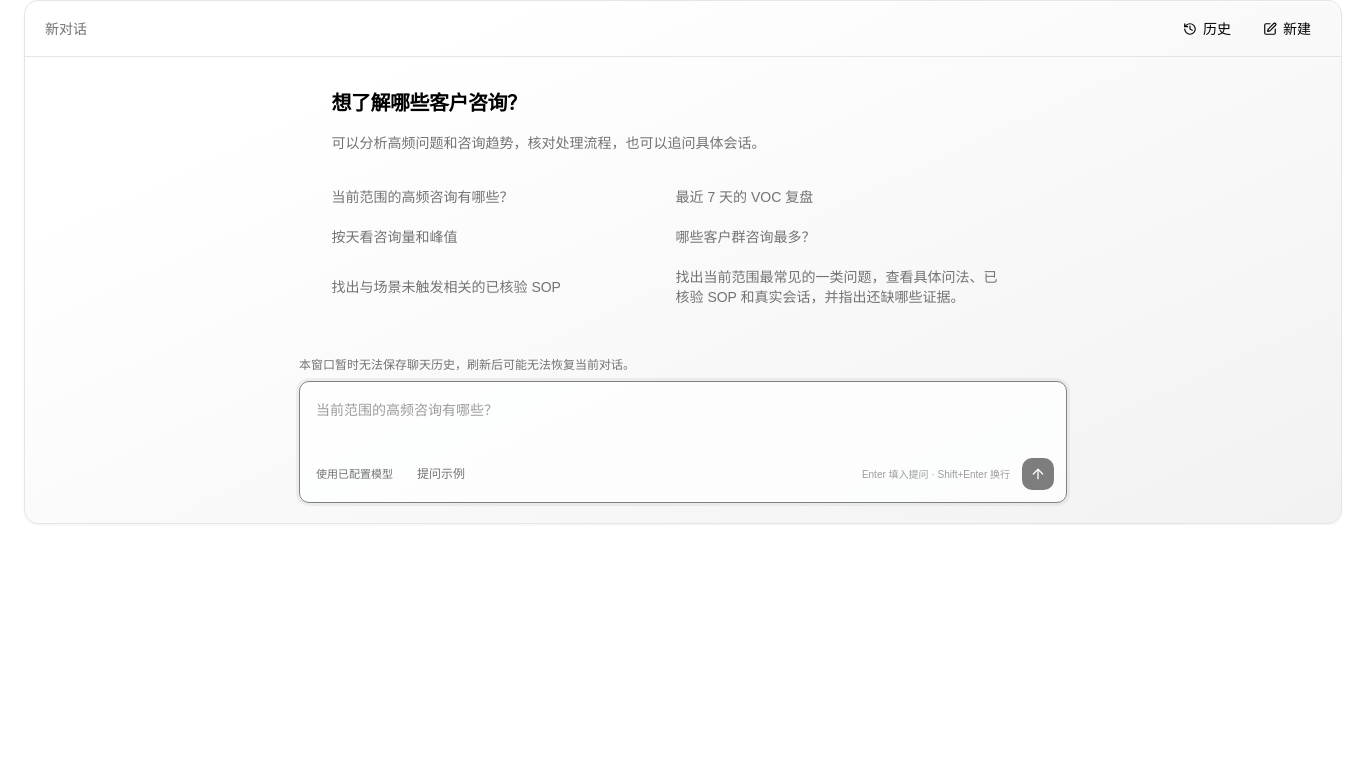
Test case: completes a typed keyword in place and only sends on a fresh Enter
Type "话术" into the text box named "向语海Voc提问".
click(683, 422); type("话术")  # box [312,394,1054,450]
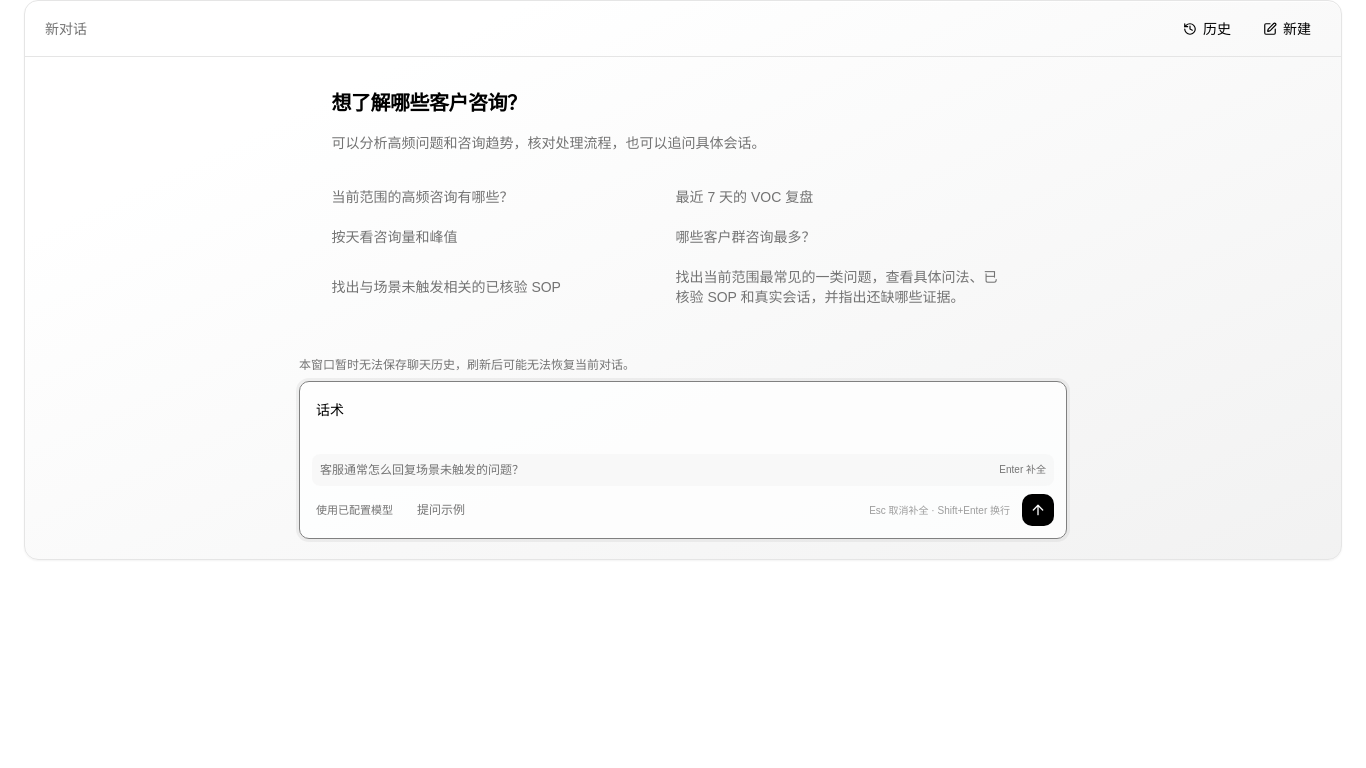
expect the button "客服通常怎么回复场景未触发的问题？ Enter 补全" is shown: met, box [312,454,1054,486]
Press Enter in the text box named "向语海Voc提问", box [312,394,1054,450]
Press Enter in the text box named "向语海Voc提问", box [312,394,1054,450]
Press Enter in the text box named "向语海Voc提问", box [312,394,1054,450]
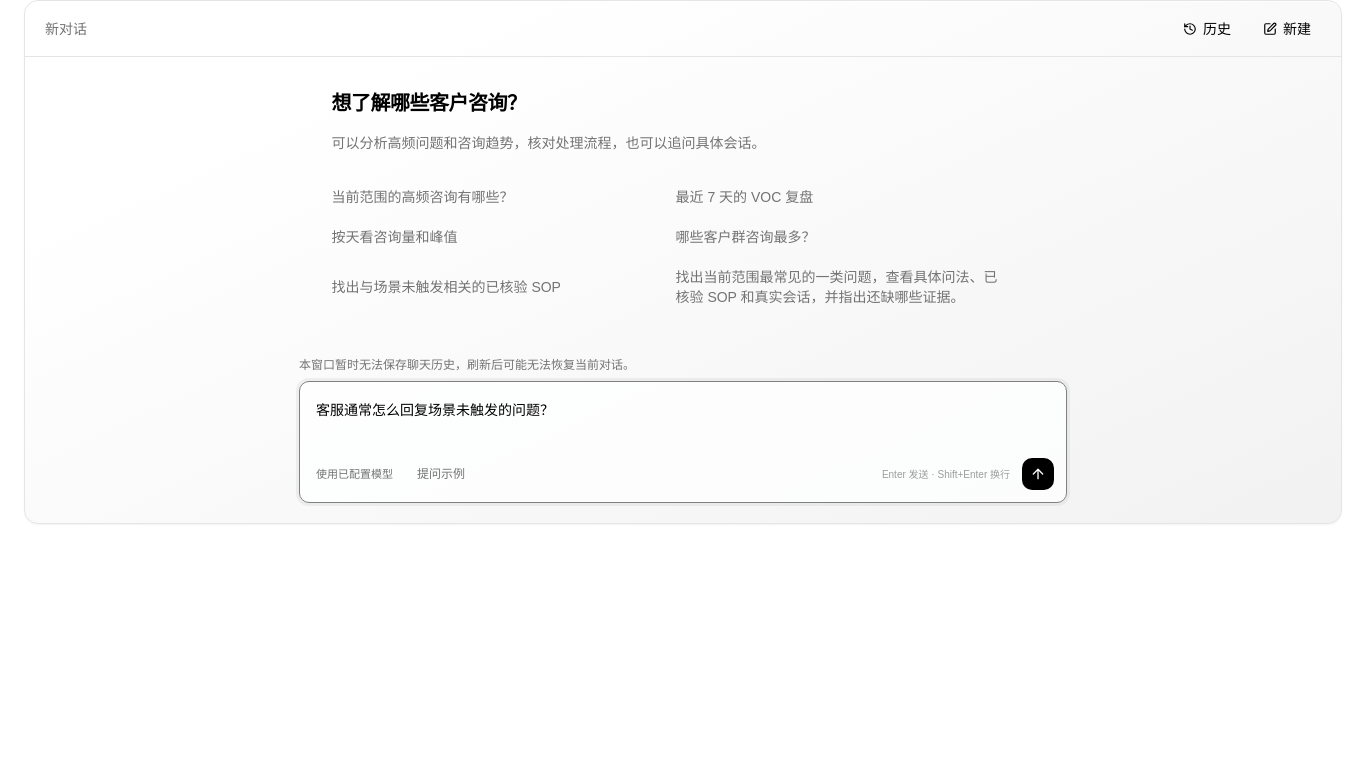
expect the text box named "向语海Voc提问" holds "客服通常怎么回复场景未触发的问题？": met
expect the button "Enter 补全" is gone: met
Press Enter in the text box named "向语海Voc提问", box [312,394,1054,450]
Replace the text in the text box named "向语海Voc提问" with "补充平台范围：客服通常怎么回复场景未触发的问题？" at (683, 422), box [312,394,1054,450]
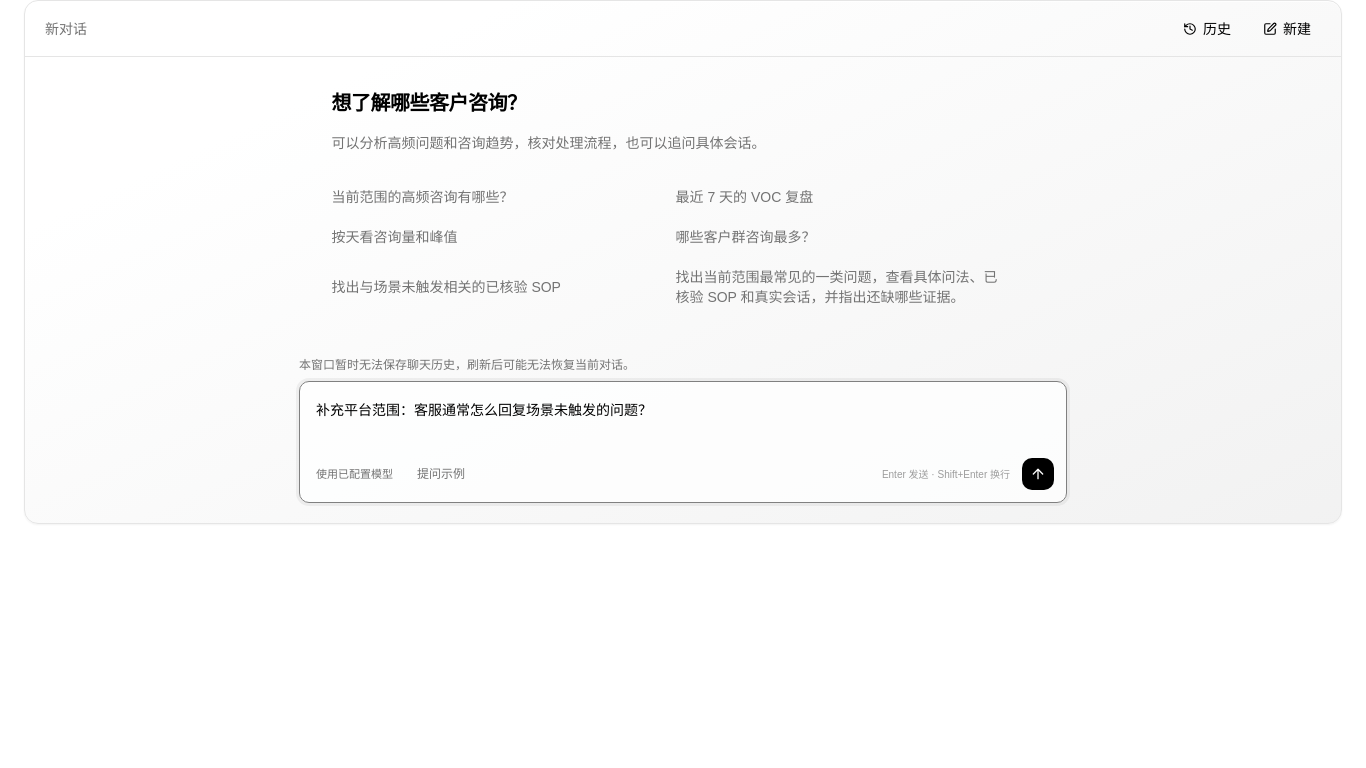
Press Enter in the text box named "向语海Voc提问", box [312,394,1054,450]
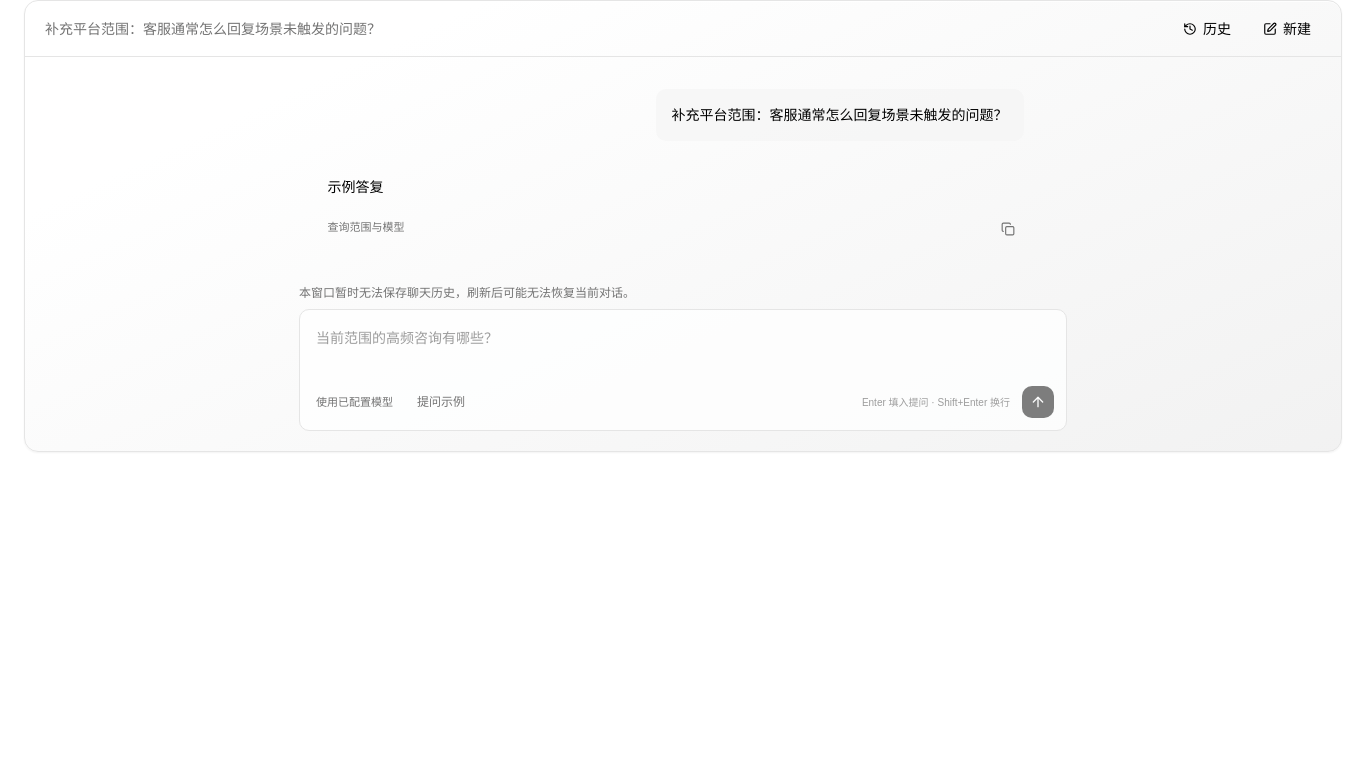
expect the heading "补充平台范围：客服通常怎么回复场景未触发的问题？" is shown: met, box [45,20,381,36]
expect the text "示例答复" is shown: met, box [328,179,384,195]
Type "高频" into the text box named "向语海Voc提问".
click(683, 350); type("高频")  # box [312,322,1054,378]
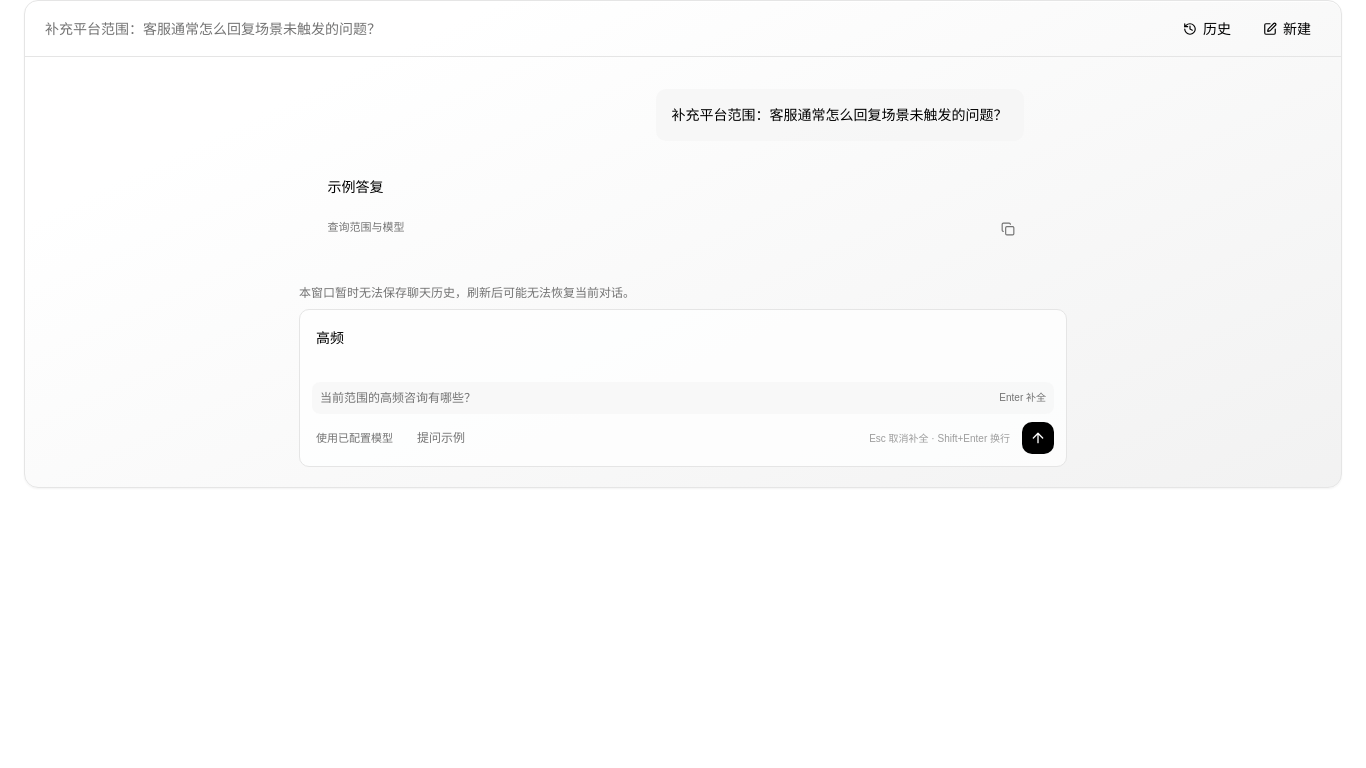
expect the button "当前范围的高频咨询有哪些？ Enter 补全" is shown: met, box [312,382,1054,414]
